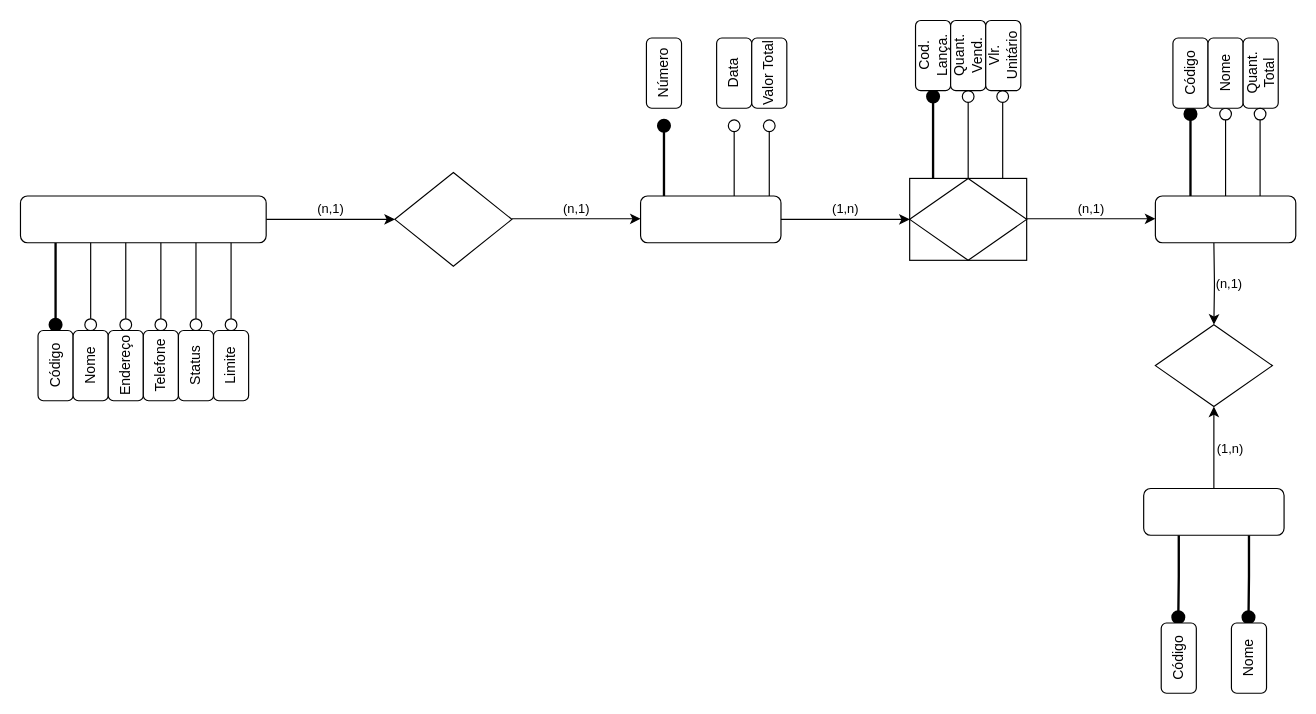
The diagram is 1316 pixels wide and 714 high, and some of its shapes have lost their labels. Here are the shapes that lost their labels. From the top down, the centre of each, then its label:
(x=142, y=219): Cliente
(x=710, y=219): Pedidos
(x=968, y=218): Consulta
(x=1225, y=219): Produtos
(x=1213, y=511): Categoria
